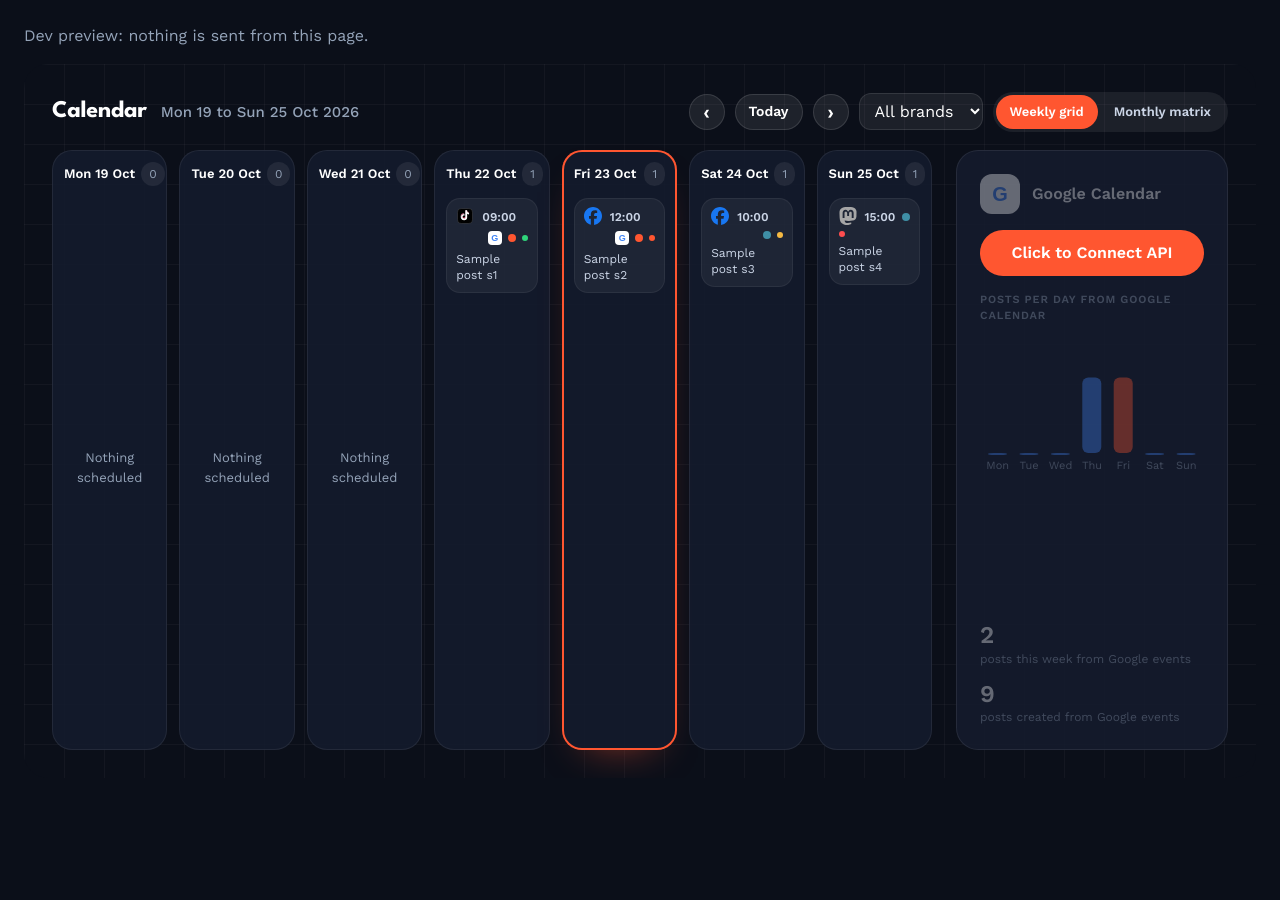
CalendarWorkspacePreview (dev only) › renders made-up posts and only reports what the Google button would do
Expected: the button with test id "^cw-card-" is shown, [446,198,538,293]
Click the button "Click to Connect API": (1092, 252) [980,230,1204,276]
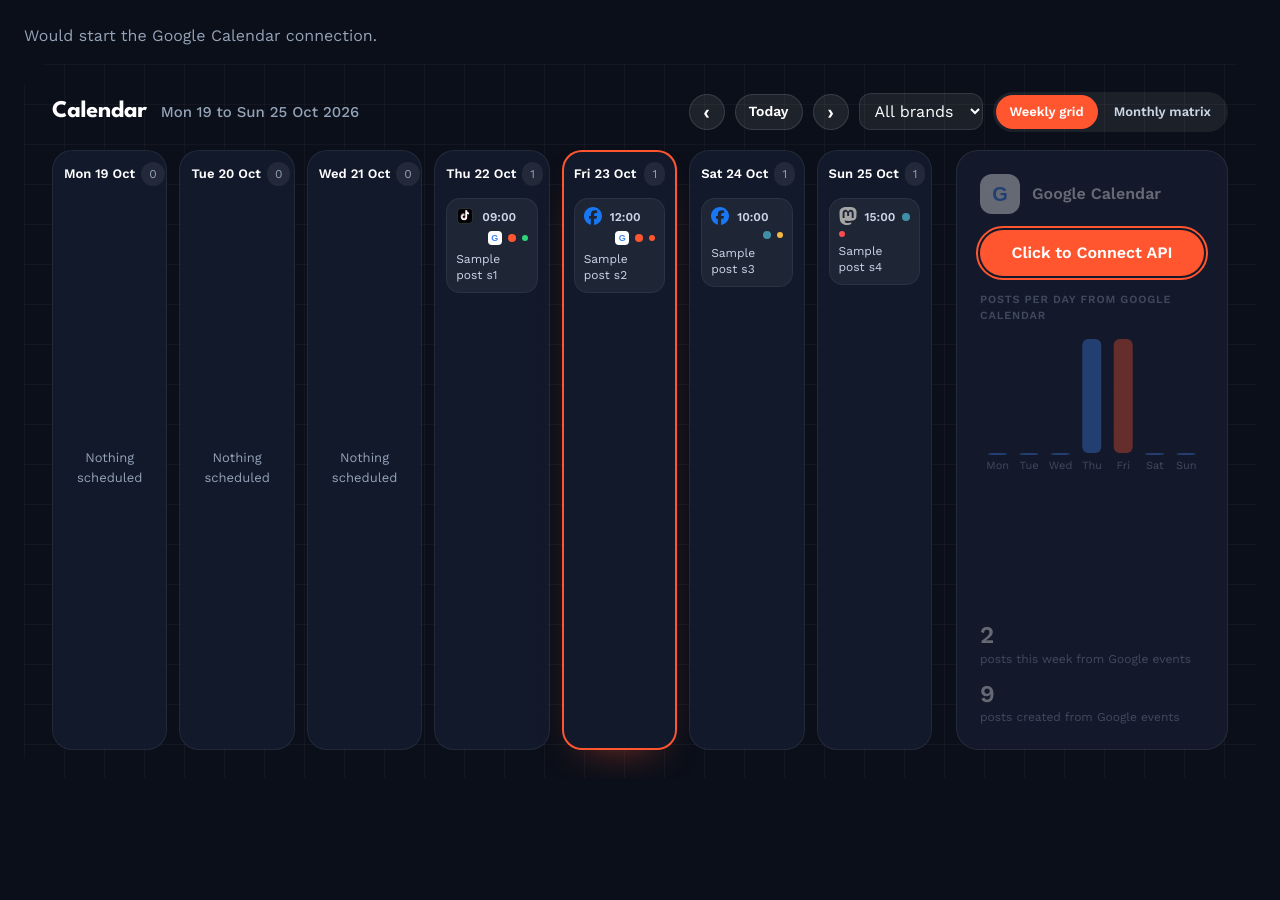
Expected: the text "Would start the Google Calendar connection." is shown, [24,26,377,45]
